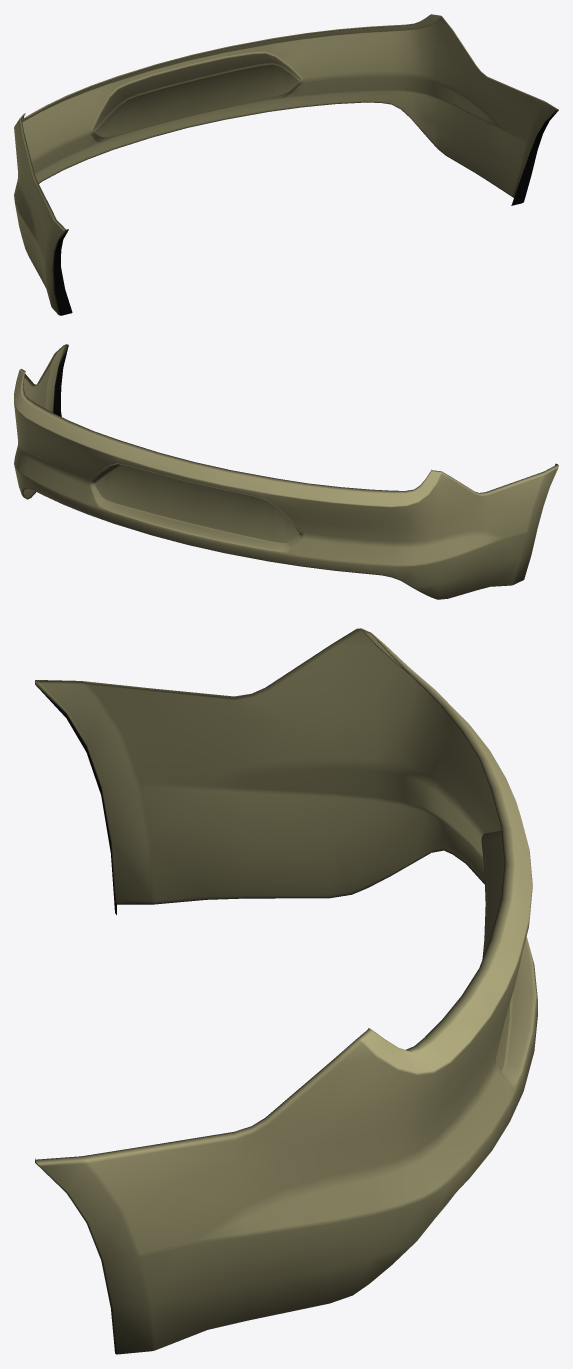
The model's file is Mustang16_RB_GT_Duco.fbx.
3 views of the same model, one above another, from view 1: azimuth 30°, elevation 25°; view 2: azimuth 150°, elevation 25°; view 3: azimuth 270°, elevation 25° (orthographic). The views are drawn at different scales.
Visible parts, largest first — view 1: Mustang16_RB_GT_Duco; view 2: Mustang16_RB_GT_Duco; view 3: Mustang16_RB_GT_Duco.
Boxes of the visible parts, <box> form: Mustang16_RB_GT_Duco: <box>14,14,558,315</box>; Mustang16_RB_GT_Duco: <box>14,344,558,599</box>; Mustang16_RB_GT_Duco: <box>35,628,537,1354</box>.
Size of the model in its own units: 190 by 54.97 by 83.59.
